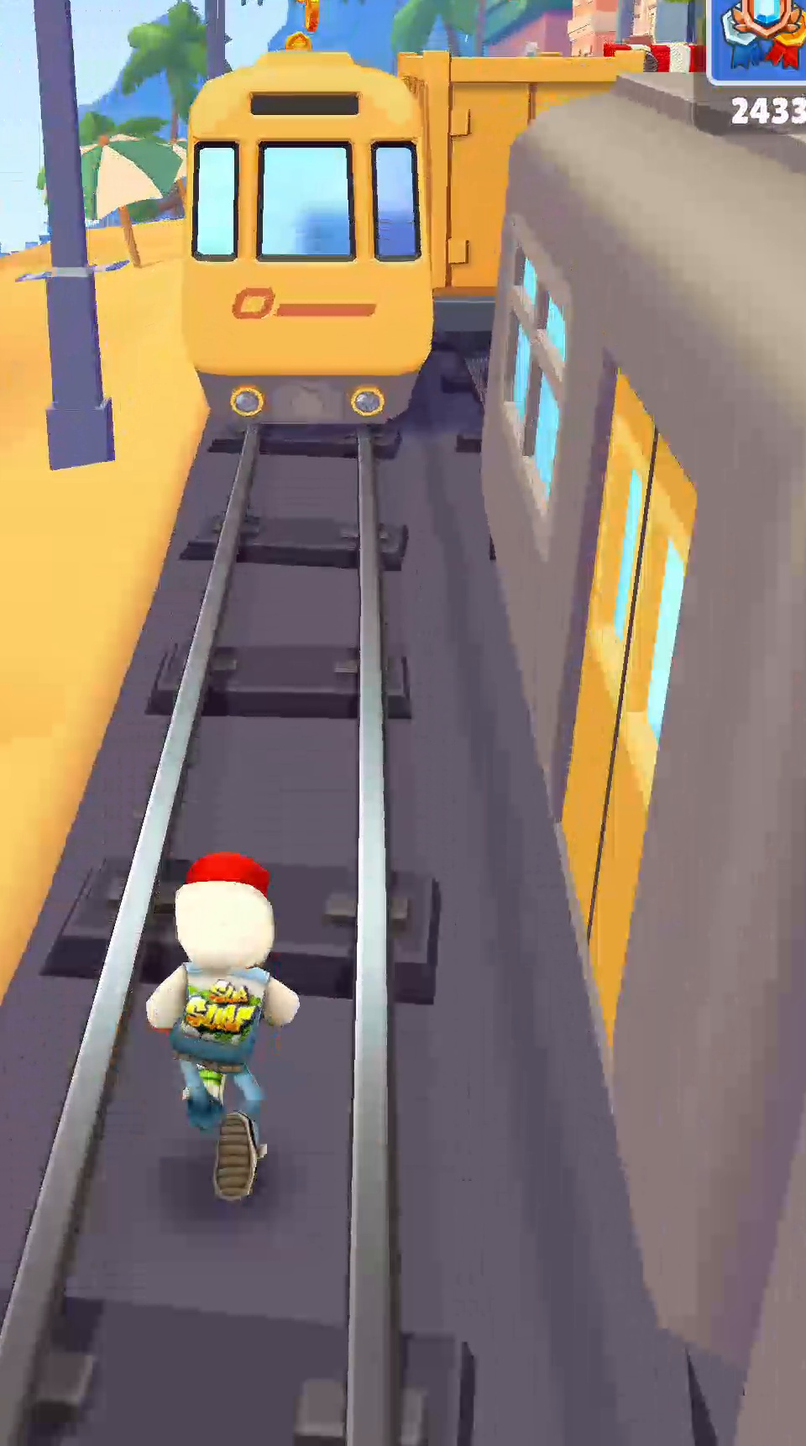train: (482, 69, 805, 1375), (182, 48, 433, 434), (399, 51, 641, 305)
